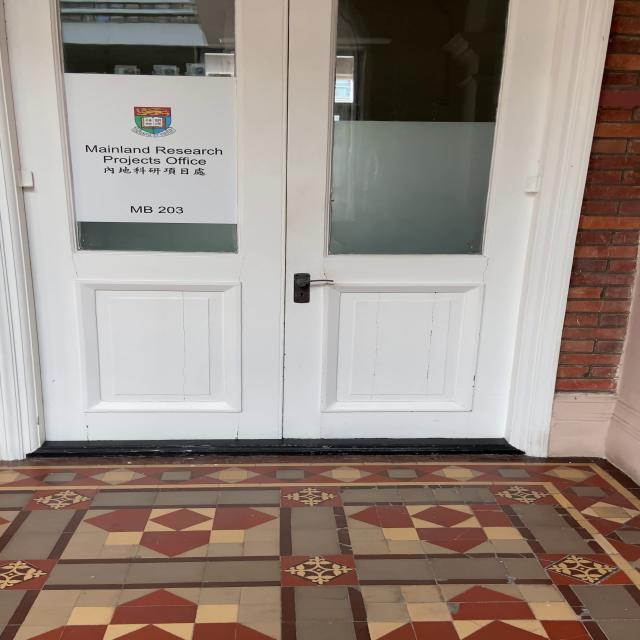room203Window: (126, 203, 190, 216)
